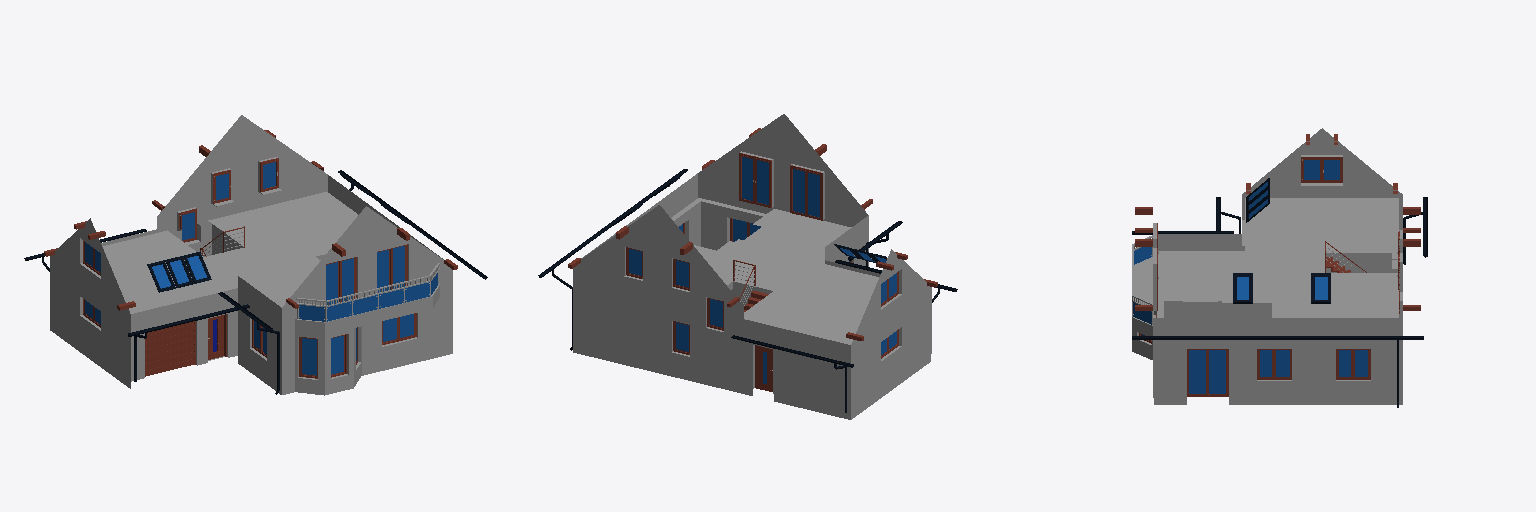
Rendered from housewall.obj.
The picture shows the model from 3 angles: view 1: azimuth 30°, elevation 25°; view 2: azimuth 150°, elevation 25°; view 3: azimuth 270°, elevation 25°; orthographic projection.
Visible parts, largest first — view 1: wall_exterior, window_011, floor_007, floor_004, barrels_001, door_garage, gutter_001, floor_006, floor_003, balcony, floor_008, window_roof (+3 smaller); view 2: wall_exterior, window_011, floor_007, floor_008, walls_002, gutter_001, floor_006, wood_balls, door_wing_013, window_roof; view 3: wall_exterior, floor_007, window_011, floor_008, walls_002, gutter_001, floor_006, floor_004, window_roof, floor_003, wood_balls, balcony (+2 smaller).
Part boxes in pixels (left/top/right/bottom): wall_exterior: left=50, top=115, right=452, bottom=395; window_011: left=80, top=158, right=417, bottom=380; floor_007: left=102, top=230, right=237, bottom=313; floor_004: left=252, top=192, right=357, bottom=243; barrels_001: left=296, top=263, right=439, bottom=321; door_garage: left=145, top=321, right=195, bottom=376; gutter_001: left=24, top=170, right=487, bottom=394; floor_006: left=204, top=239, right=330, bottom=276; floor_003: left=208, top=210, right=297, bottom=254; balcony: left=295, top=284, right=439, bottom=334; floor_008: left=232, top=257, right=320, bottom=307; window_roof: left=147, top=174, right=409, bottom=292; wall_exterior: left=573, top=114, right=931, bottom=419; window_011: left=624, top=153, right=901, bottom=361; floor_007: left=744, top=262, right=878, bottom=344; floor_008: left=717, top=209, right=851, bottom=270; walls_002: left=671, top=198, right=765, bottom=305; gutter_001: left=538, top=169, right=957, bottom=412; floor_006: left=695, top=246, right=799, bottom=290; wood_balls: left=568, top=128, right=937, bottom=340; door_wing_013: left=755, top=345, right=772, bottom=391; window_roof: left=612, top=176, right=886, bottom=262; wall_exterior: left=1132, top=128, right=1402, bottom=404; floor_007: left=1245, top=198, right=1398, bottom=252; window_011: left=1138, top=157, right=1399, bottom=396; floor_008: left=1158, top=251, right=1271, bottom=293; walls_002: left=1154, top=253, right=1397, bottom=317; gutter_001: left=1132, top=197, right=1427, bottom=407; floor_006: left=1272, top=253, right=1324, bottom=303; floor_004: left=1306, top=294, right=1398, bottom=317; window_roof: left=1233, top=178, right=1330, bottom=303; floor_003: left=1306, top=273, right=1398, bottom=293; wood_balls: left=1135, top=134, right=1420, bottom=310; balcony: left=1132, top=257, right=1152, bottom=335.
Size of the model in its own units: 6.15 by 3.17 by 5.